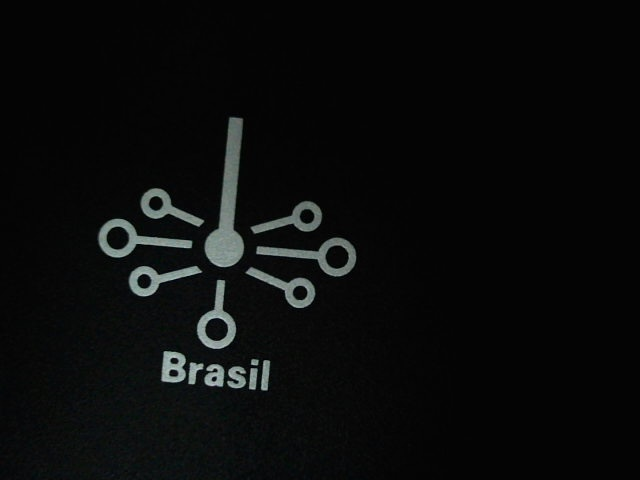BG_Brasil: (74, 110, 363, 401)
